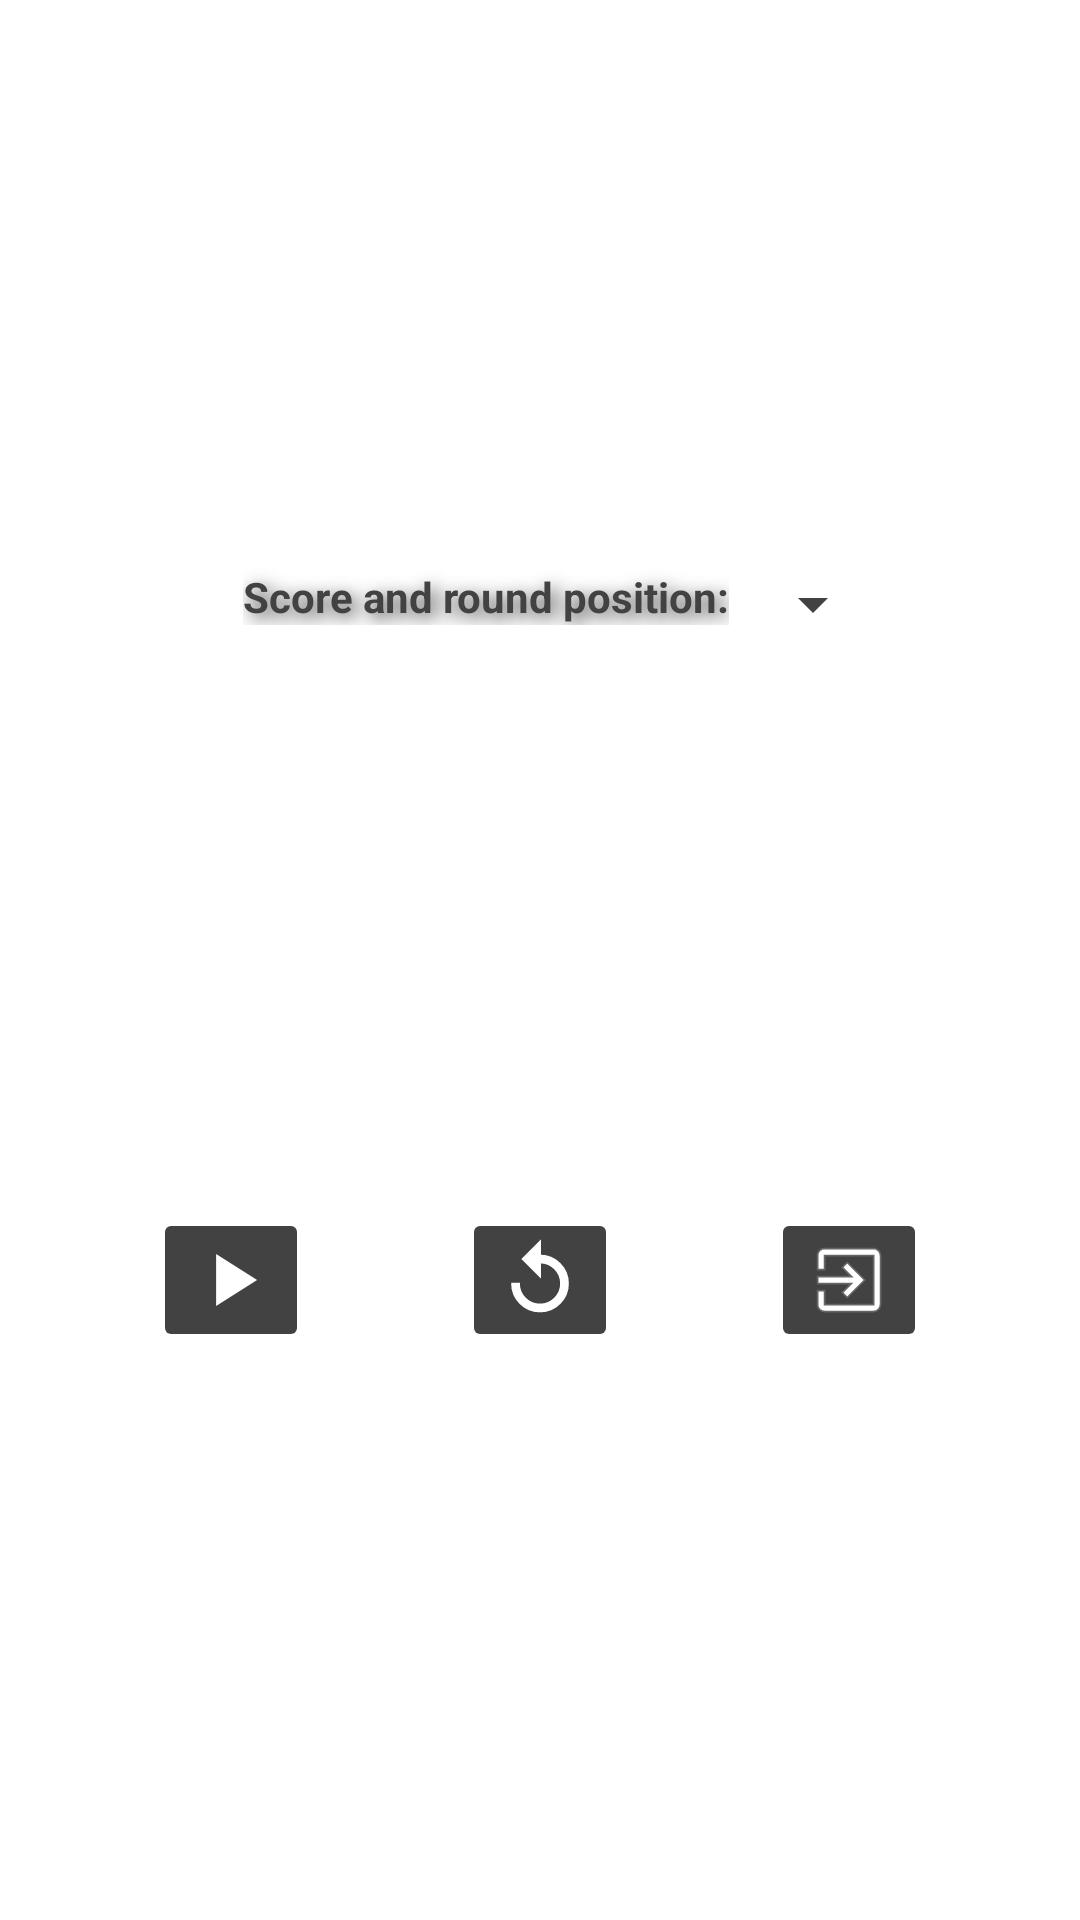

Where icons sit on this 1080px×1920px app screen, as [left=x1, top=y1, right=x2, bottom=y2]:
Continue playing: [left=165, top=1226, right=297, bottom=1334]
Exit game: [left=783, top=1226, right=915, bottom=1334]
Restart game: [left=474, top=1226, right=606, bottom=1334]
